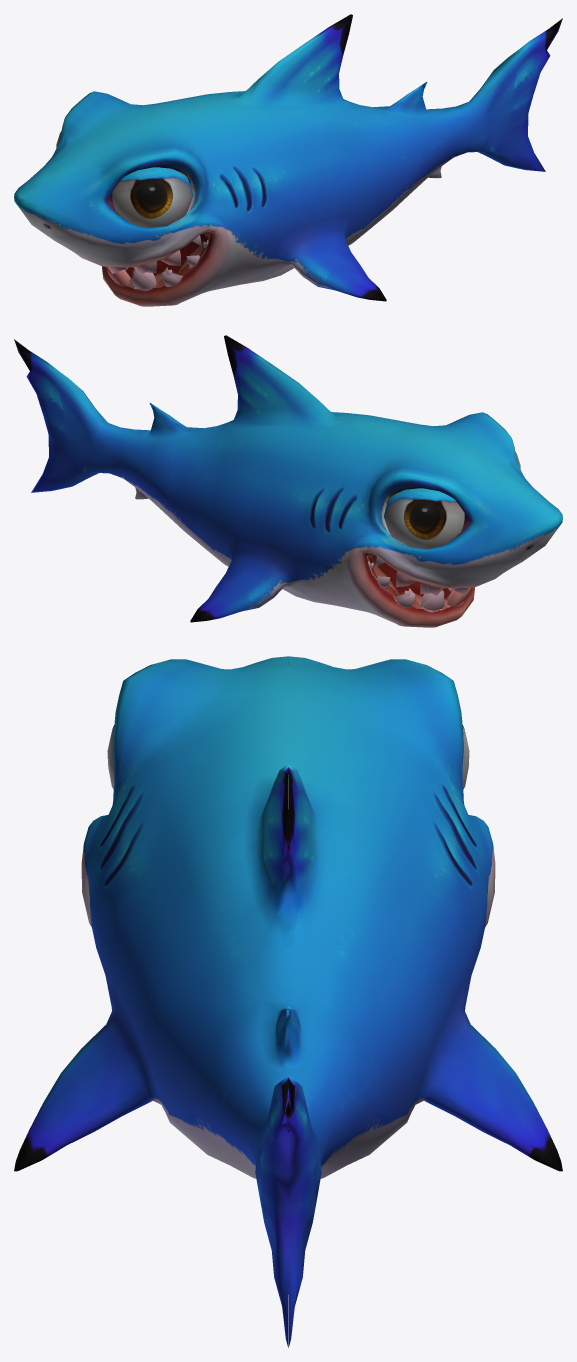
File: shark_lod.glb
The picture shows the model from 3 angles, top to bottom: view 1: azimuth 30°, elevation 25°; view 2: azimuth 150°, elevation 25°; view 3: azimuth 270°, elevation 25°; orthographic projection. The views are drawn at different scales.
Parts seen in each view (by area): view 1: LOD0; view 2: LOD0; view 3: LOD0.
Boxes of the visible parts, box(x1,y1,x2,y2) form: LOD0: box(14, 14, 562, 306); LOD0: box(14, 335, 562, 627); LOD0: box(14, 656, 562, 1347).
Size of what is drawn, in the model's own units: 0.9992 by 0.4241 by 0.4565.
Materials: 1 (1 with a texture image).
